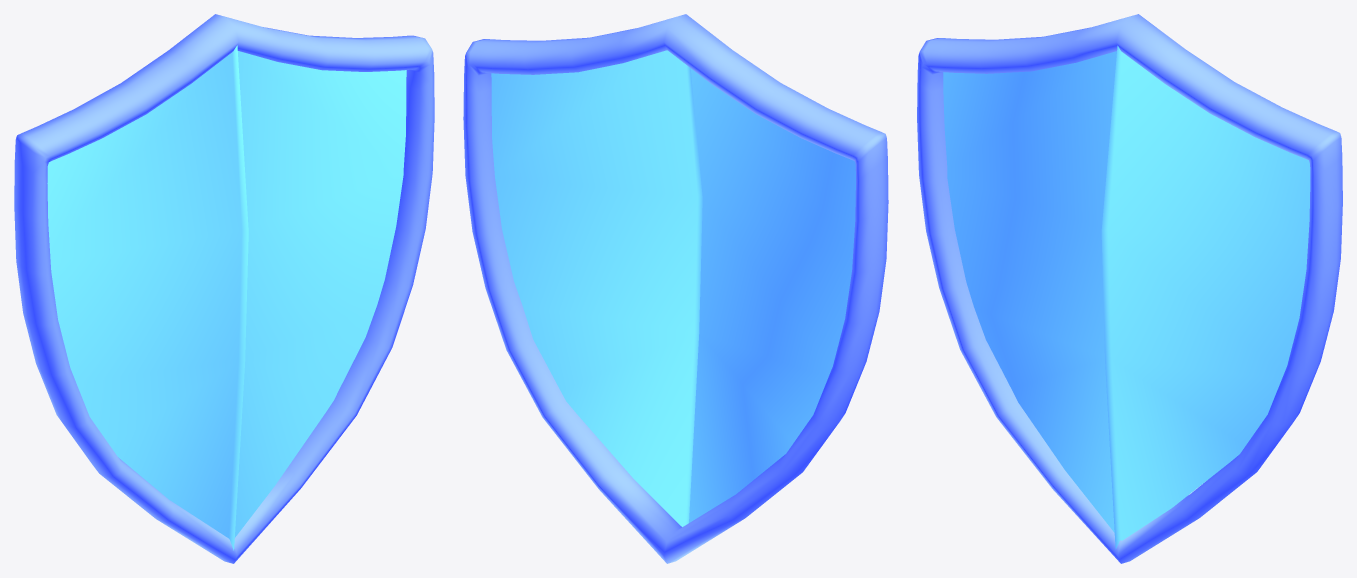
The model's file is MadeByJawns_ItchIO_GameItems_v1_0_1_Shield.glb.
The picture shows the model from 3 angles, left to right: view 1: azimuth 30°, elevation 25°; view 2: azimuth 150°, elevation 25°; view 3: azimuth 330°, elevation 25°; orthographic projection.
Parts seen in each view (by area): view 1: Shield; view 2: Shield; view 3: Shield.
Boxes of the visible parts, x1,y1,x2,y2 form: Shield: [14, 14, 434, 563]; Shield: [463, 14, 888, 563]; Shield: [917, 14, 1342, 563].
Bounding box in the file's own units: 5.21 × 6.59 × 0.8857.
